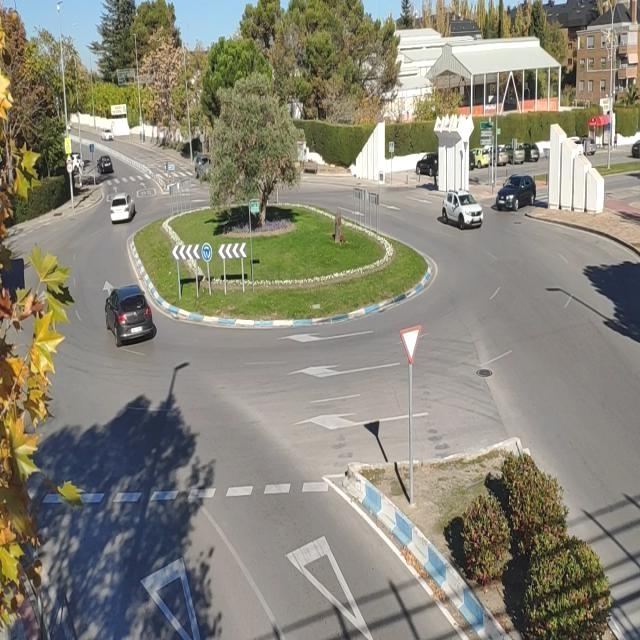Car: (104, 285, 156, 347), (442, 189, 484, 230), (496, 174, 536, 211), (109, 193, 135, 223), (415, 153, 438, 176), (96, 155, 113, 174), (102, 129, 115, 141)
